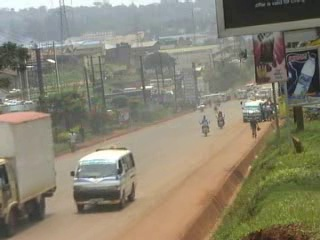Motorcycle: (198, 115, 212, 137), (214, 109, 226, 130), (196, 99, 206, 113)
